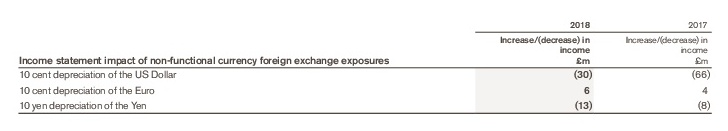table: (0, 0, 728, 131)
